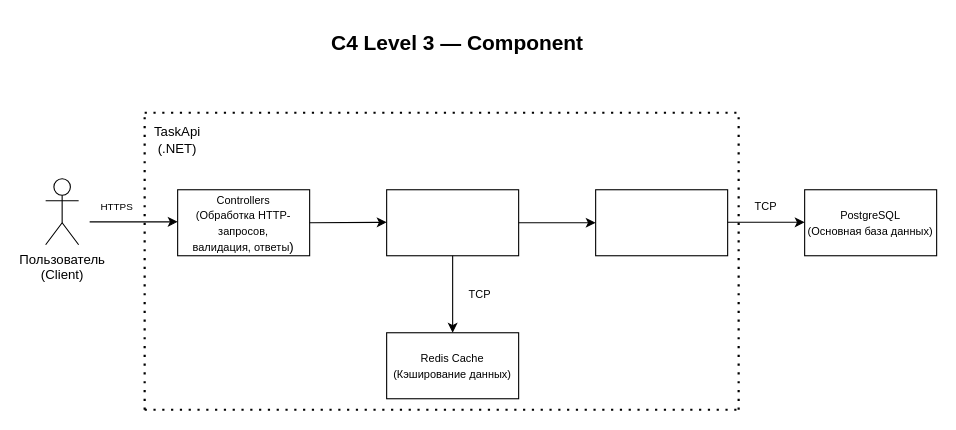
Some shapes in this 956 by 430 pixel diagram are drawn without their labels. The shapes that lost their labels are listed below. From the top down, each one's centre as x and y in pixels, then its label:
At [452,222]: "Services (Бизнес-логика, работа с данными)".
At [661,222]: "Repositories (Работа с DbContext, запросы к БД)".
